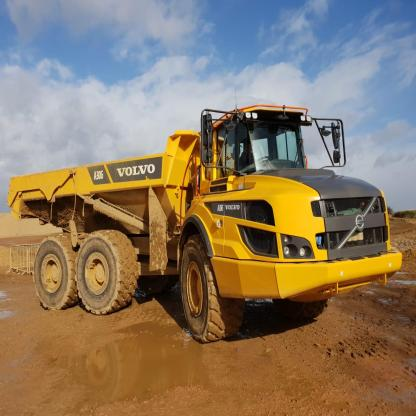dump_truck: (9, 89, 402, 345)
